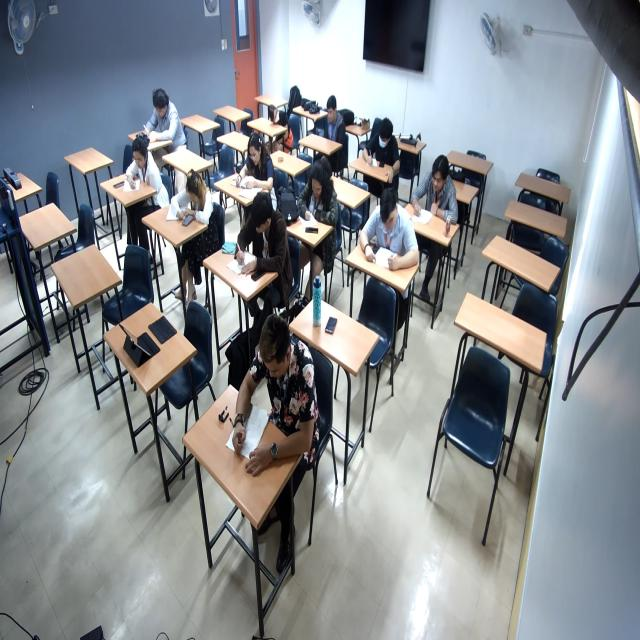read: (211, 320, 318, 473), (222, 196, 290, 284), (359, 192, 424, 277), (291, 162, 344, 243), (409, 161, 466, 232), (164, 165, 216, 232), (227, 137, 278, 201), (133, 87, 181, 150), (114, 133, 162, 195), (363, 129, 405, 172)
